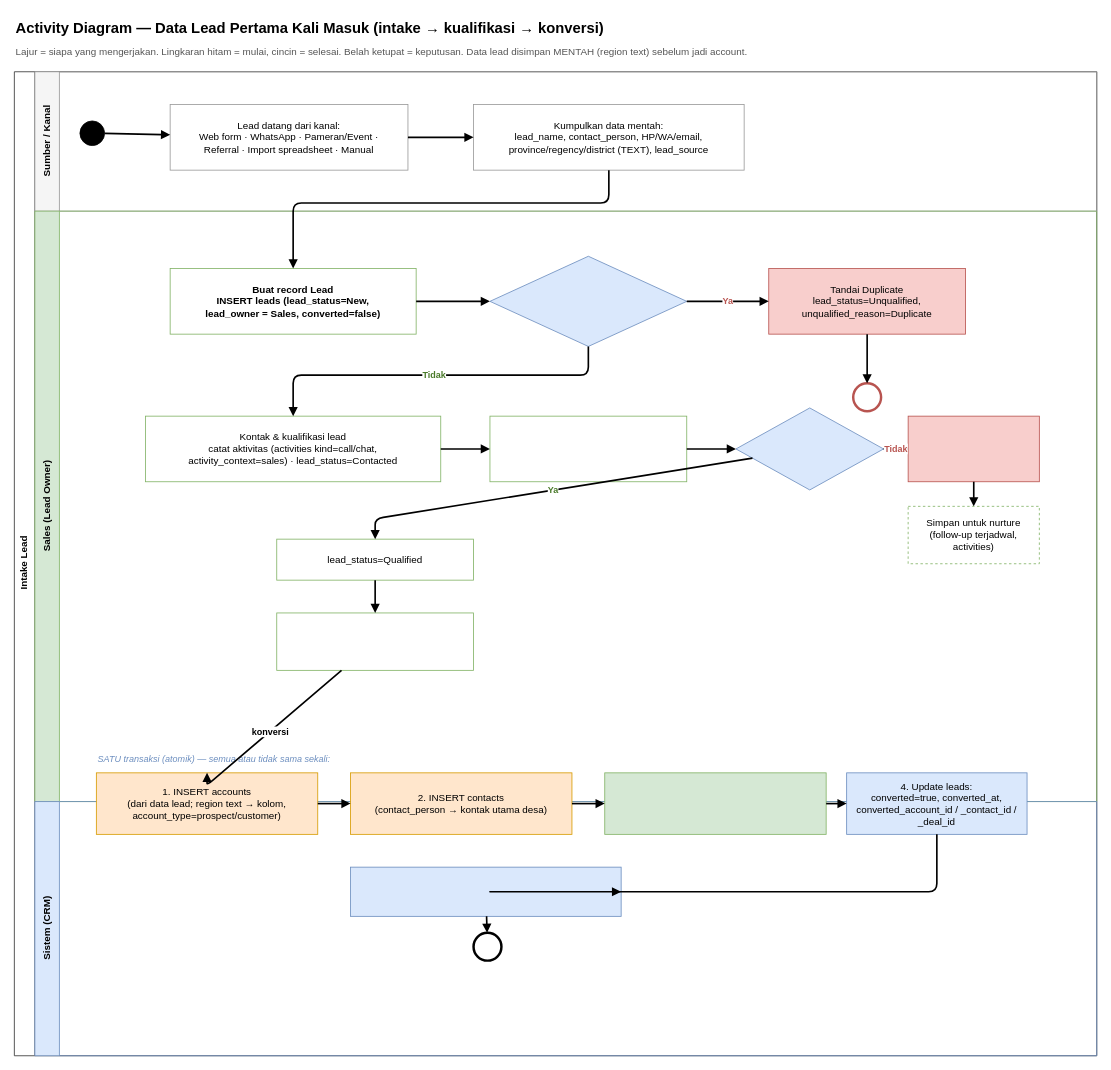
Some shapes in this 1111 by 1070 pixel diagram are drawn without their labels. Each missing label, with the centre of its shape:
3. INSERT deals (stage=Prospecting, deal_owner=Sales, plan_requested_id): the point at 715,803
Audit: audit_logs mencatat konversi (actor=Sales, target=lead→account): the point at 485,891
lead_status=Unqualified isi unqualified_reason (No Budget / Not Ready / dst): the point at 973,448
Memenuhi syarat?: the point at 809,448
Nilai kelayakan: rating (Hot/Warm/Cold), estimated_value: the point at 588,448
Sudah ada di sistem? (cek village_code / nama+wilayah di leads & accounts): the point at 588,300
Tekan "Konversi Lead" (pilih plan diminta, term): the point at 375,641
